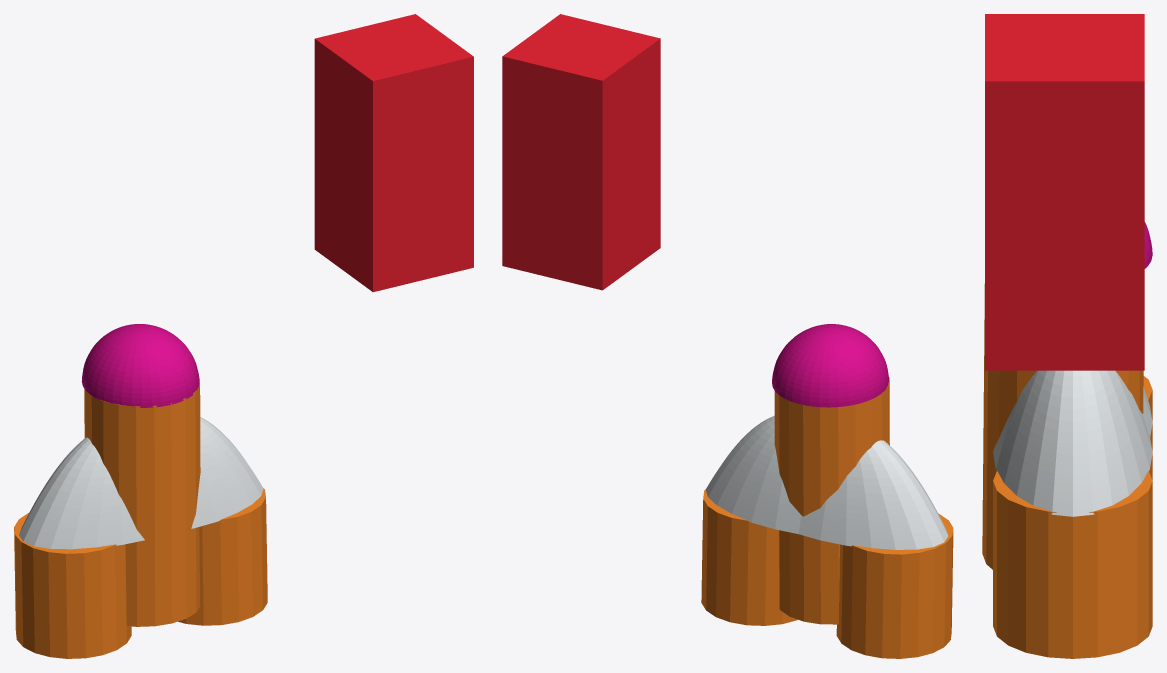
The model's file is tinker.obj.
3 views of the same model, side by side, from view 1: azimuth 30°, elevation 25°; view 2: azimuth 150°, elevation 25°; view 3: azimuth 270°, elevation 25° (orthographic). The views are drawn at different scales.
Parts seen in each view (by area): view 1: group_0_15277357, group_0_16089887, group_0_14541540, group_0_14093196; view 2: group_0_15277357, group_0_16089887, group_0_14541540, group_0_14093196; view 3: group_0_15277357, group_0_16089887, group_0_14541540, group_0_14093196.
Boxes of the visible parts, x1,y1,x2,y2 form: group_0_15277357: [314, 14, 473, 292]; group_0_16089887: [14, 383, 267, 658]; group_0_14541540: [19, 417, 263, 549]; group_0_14093196: [81, 324, 199, 407]; group_0_15277357: [502, 14, 660, 290]; group_0_16089887: [701, 377, 953, 658]; group_0_14541540: [705, 415, 948, 549]; group_0_14093196: [772, 324, 888, 407]; group_0_15277357: [985, 14, 1144, 370]; group_0_16089887: [982, 284, 1152, 658]; group_0_14541540: [993, 370, 1152, 516]; group_0_14093196: [1144, 222, 1152, 268].
Size of the model in its own units: 83.35 by 97 by 21.35.
